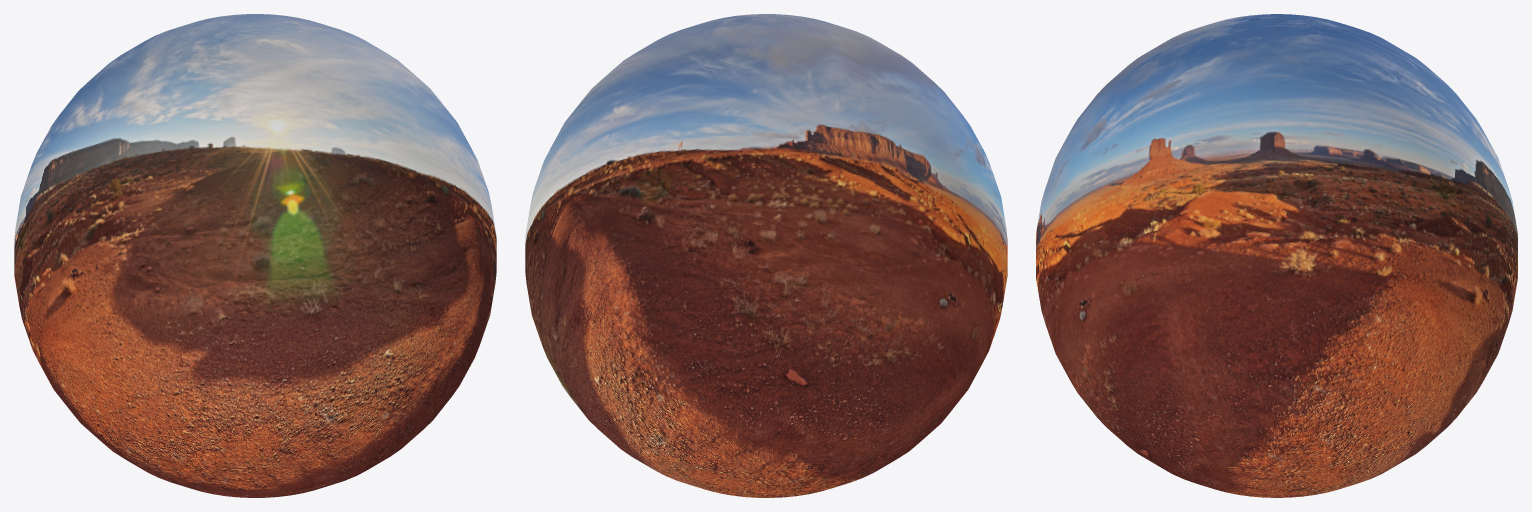
3 renders of one model, left to right at view 1: azimuth 30°, elevation 25°; view 2: azimuth 150°, elevation 25°; view 3: azimuth 270°, elevation 25°, orthographic.
Visible parts, largest first — view 1: PanoSphere; view 2: PanoSphere; view 3: PanoSphere.
Boxes of the visible parts, x1=… form: PanoSphere: x1=14, y1=14, x2=496, y2=497; PanoSphere: x1=525, y1=14, x2=1007, y2=497; PanoSphere: x1=1036, y1=14, x2=1517, y2=497.
Size of the model in its own units: 9.97 by 10 by 9.95.
Materials: 1 (1 with a texture image).
